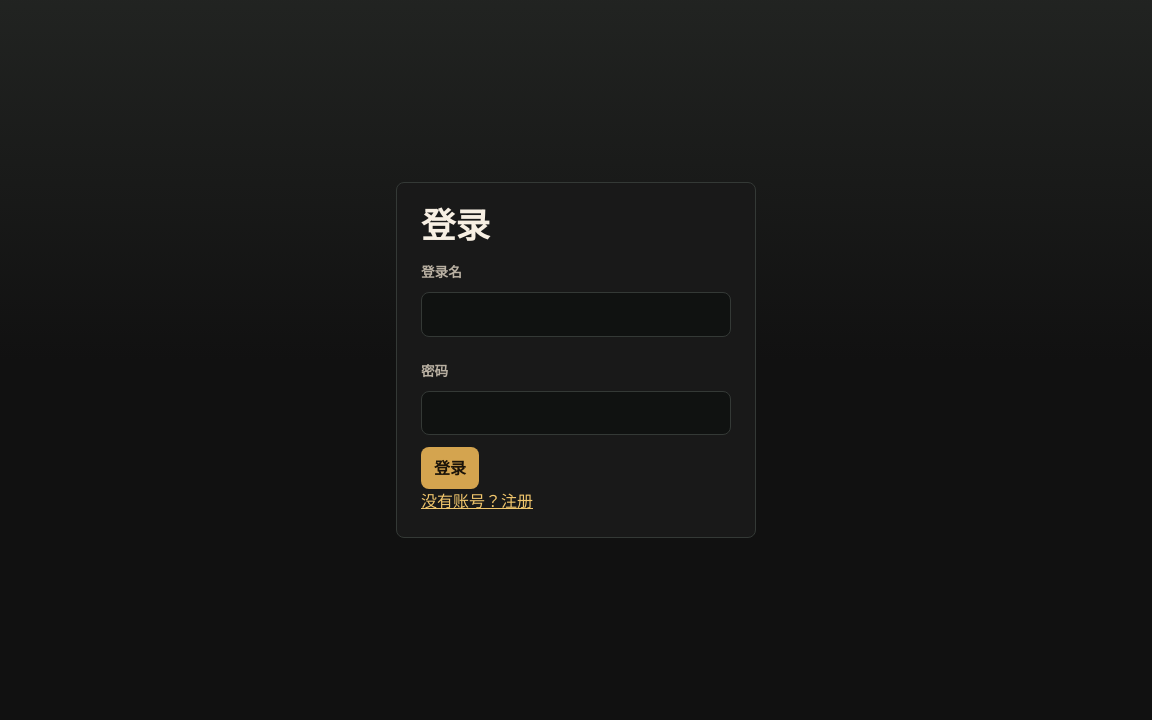
Test case: 会话过期（AUTH_REQUIRED）全局处理 › 登录表单 401 只显示表单错误，不触发全局跳转
In the field labelled "登录名": (576, 315) [421,292,731,337], type "alice"
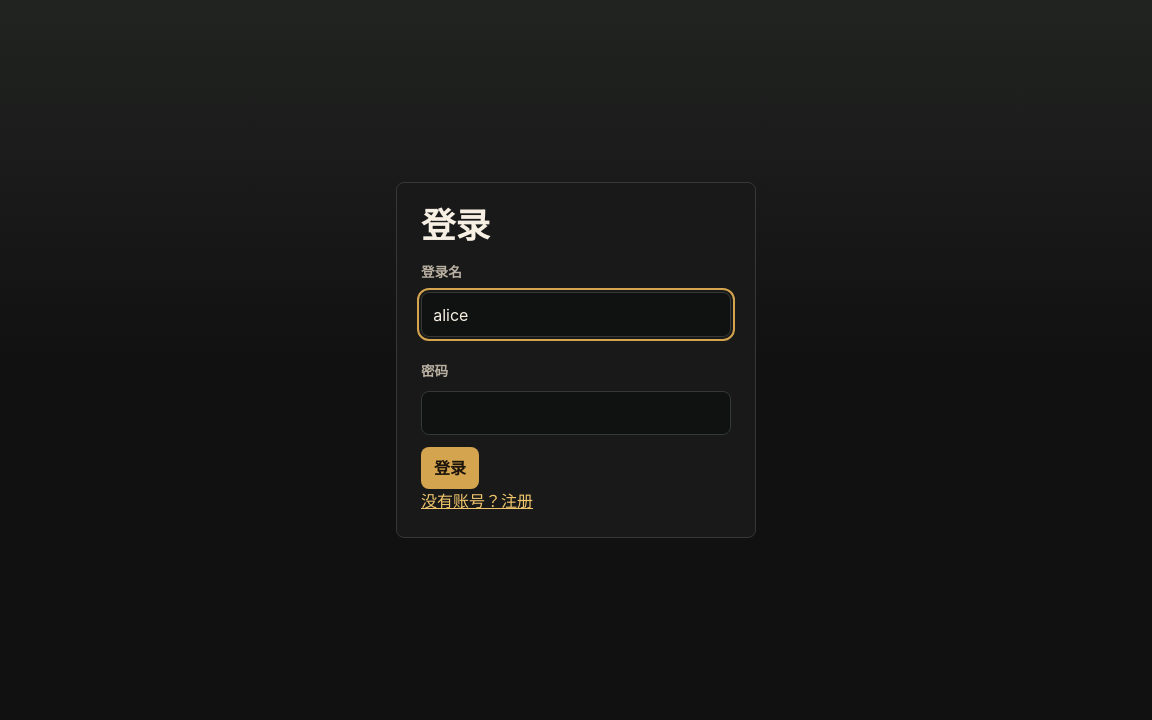
In the password field labelled "密码": (576, 413) [421,391,731,435], type "wrong"
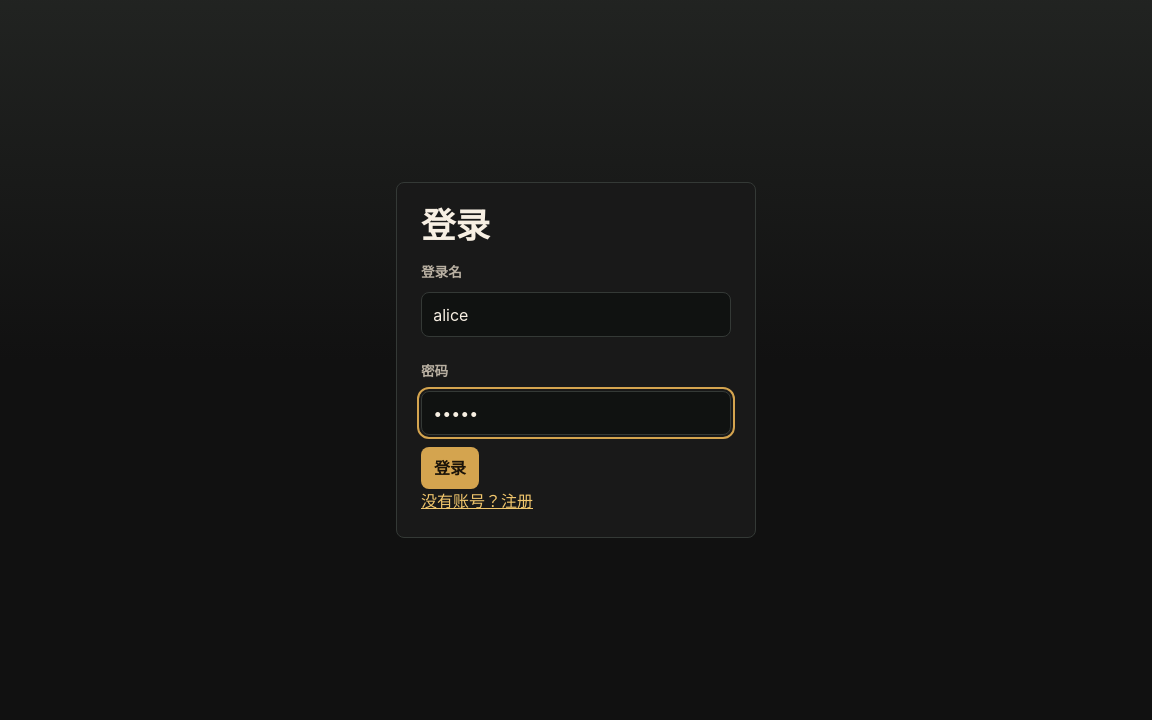
Click the button "登录": (450, 468) [421,447,479,489]
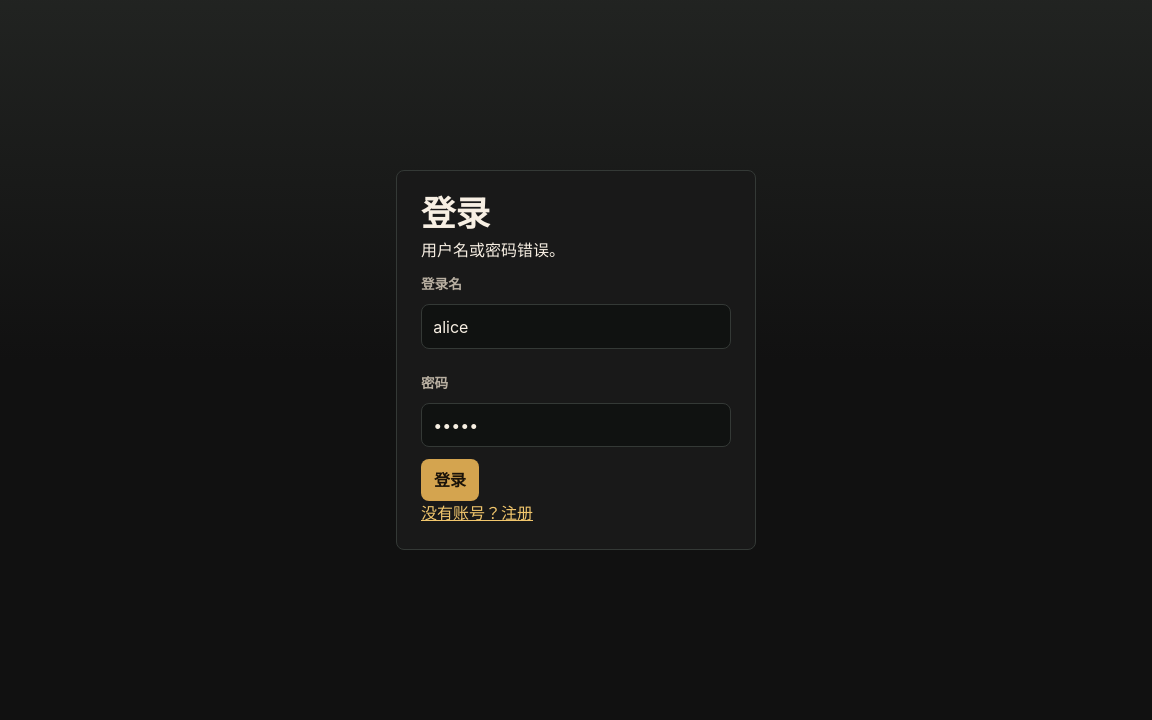
Check: the message shows "用户名或密码错误", box [421,240,565,260]
